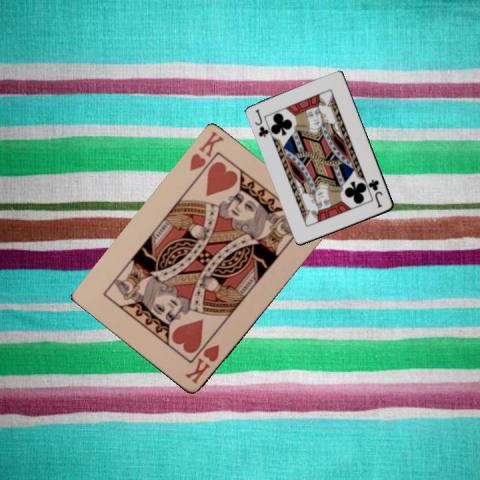Jc: (252, 106, 270, 139), (367, 177, 384, 209)
Kh: (186, 128, 226, 173), (182, 341, 221, 386)
